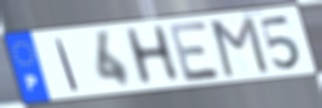4: (94, 27, 133, 92)
5: (257, 13, 303, 72)
E: (166, 19, 224, 84)
H: (121, 23, 183, 89)
I: (53, 37, 81, 92)
M: (209, 13, 272, 79)
